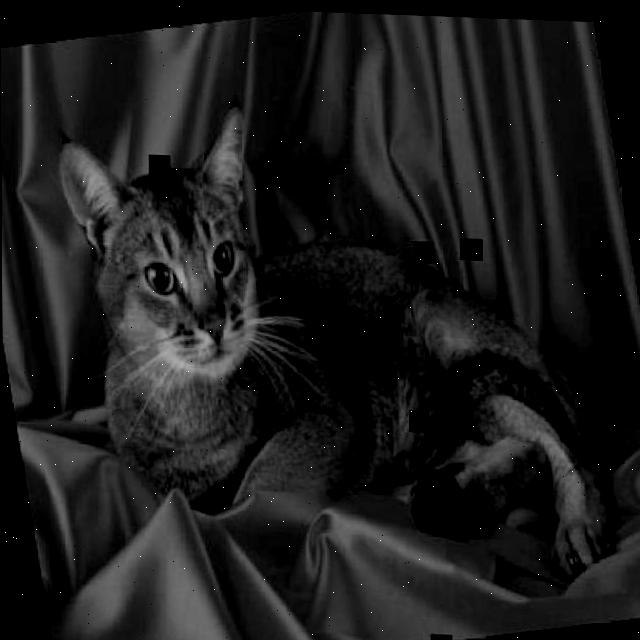Cat: (52, 50, 616, 640)
